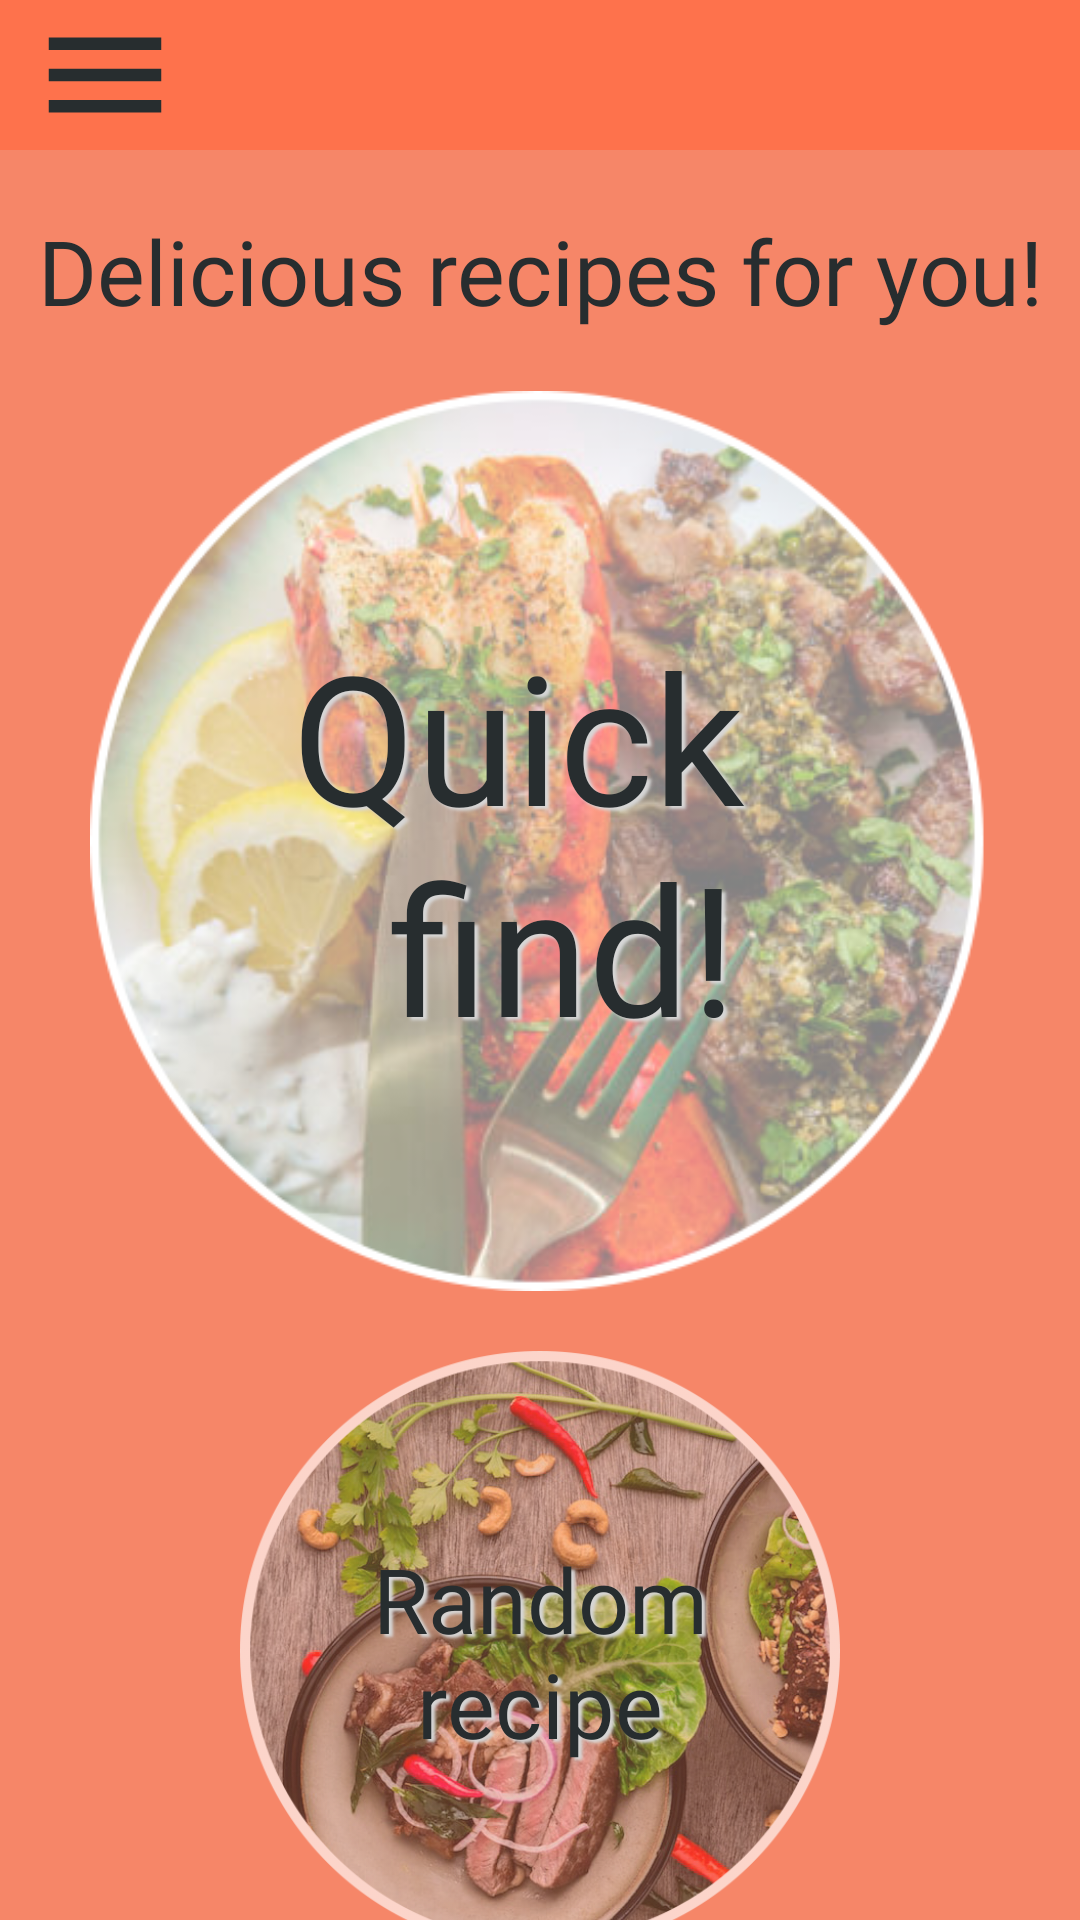

Screen size 1080 × 1920. Icon name, then its box in pixels as (x1,y1,x2,y2):
menu: (48,37,162,113)
